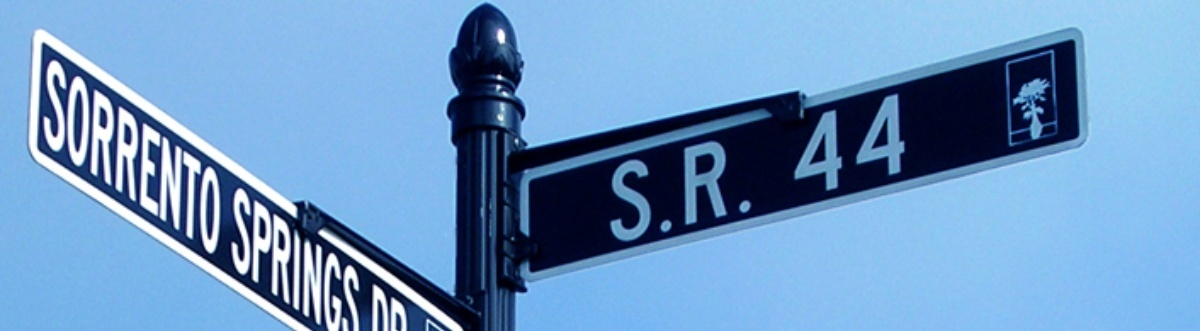text: (49, 48, 64, 260), (65, 48, 80, 260), (81, 48, 96, 260), (97, 48, 112, 260), (113, 48, 128, 260), (129, 48, 144, 260), (145, 48, 160, 260), (161, 48, 176, 260), (177, 48, 192, 260), (193, 48, 208, 260), (209, 48, 224, 260), (241, 175, 256, 331), (257, 175, 272, 331), (273, 175, 288, 331), (289, 175, 304, 331), (305, 175, 320, 331), (321, 175, 336, 331), (337, 175, 352, 331), (353, 175, 368, 331), (369, 175, 383, 331), (227, 175, 240, 331), (817, 89, 832, 202), (833, 89, 848, 202), (849, 89, 864, 202), (865, 89, 880, 202), (881, 89, 896, 202), (609, 136, 624, 247), (625, 136, 640, 247), (641, 136, 656, 247), (657, 136, 672, 247), (673, 136, 688, 247), (689, 136, 704, 247), (705, 136, 720, 247), (721, 136, 736, 247), (737, 136, 752, 247), (225, 48, 232, 260), (897, 89, 908, 202), (753, 136, 762, 247), (45, 48, 48, 260), (604, 136, 608, 247), (815, 89, 816, 202)
